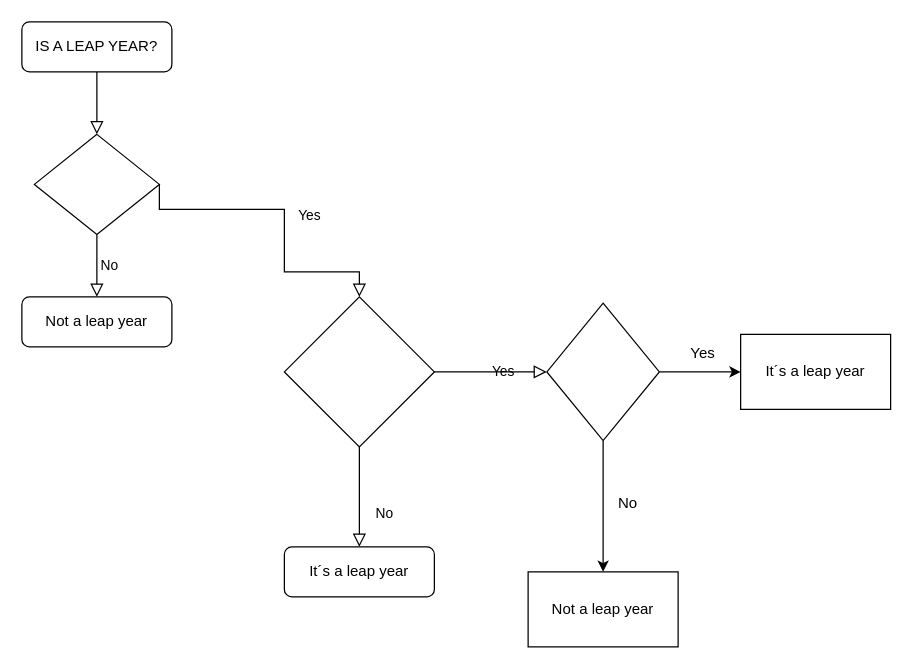
Some shapes in this 913 by 669 pixel diagram are drawn without their labels. Each missing label, with the centre of its shape:
"Is cleanly divisible by 4?" belongs at [96,183].
"Is exactly divisible by 400?" belongs at [602,371].
"Is it cleanly divisible by 100?" belongs at [358,371].
